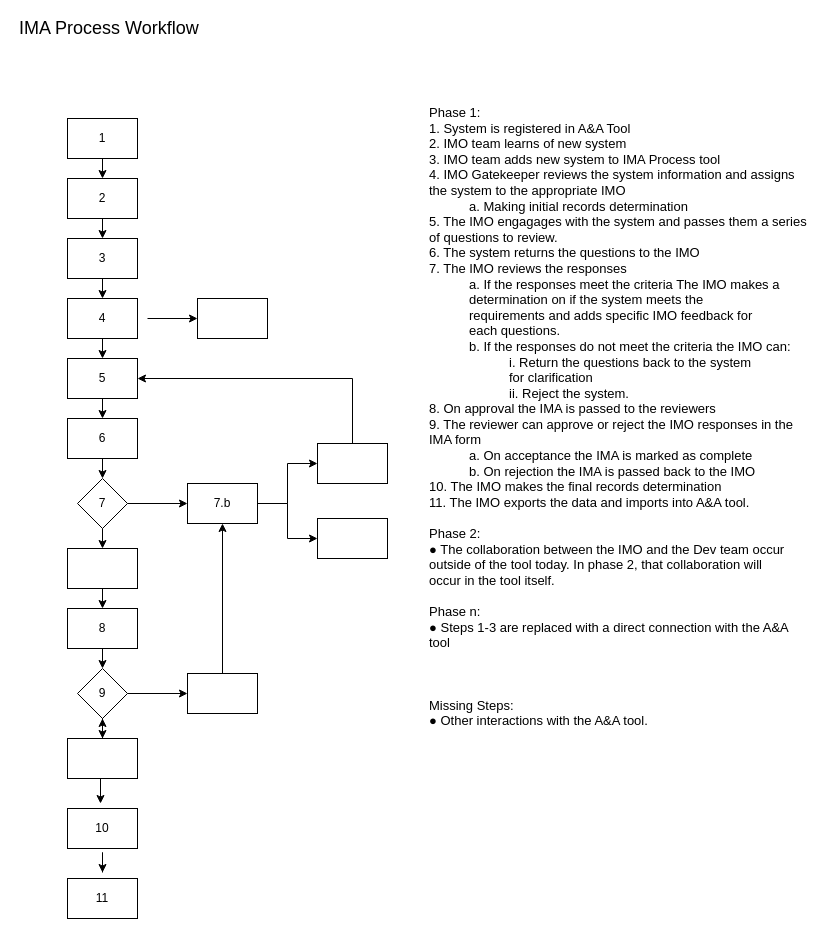
This 824x936 diagram has some shape labels left out. Here are the shapes that lost their labels. From the top down, the box of each, then its label:
(196, 298, 268, 338): 4.a
(316, 442, 388, 484): 7.b.i
(316, 518, 388, 558): 7.b.ii
(66, 548, 138, 588): 7.a
(186, 672, 258, 714): 9.b
(66, 738, 138, 778): 9.a
